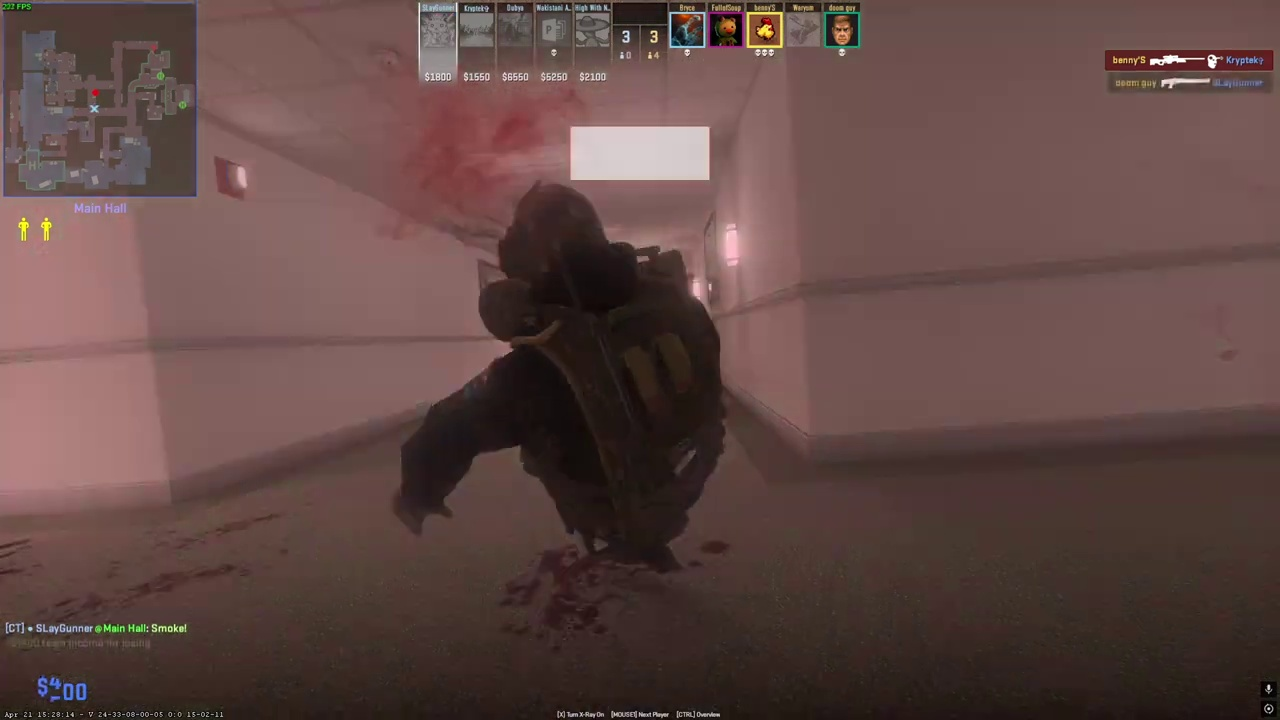CT: (412, 184, 718, 572)
